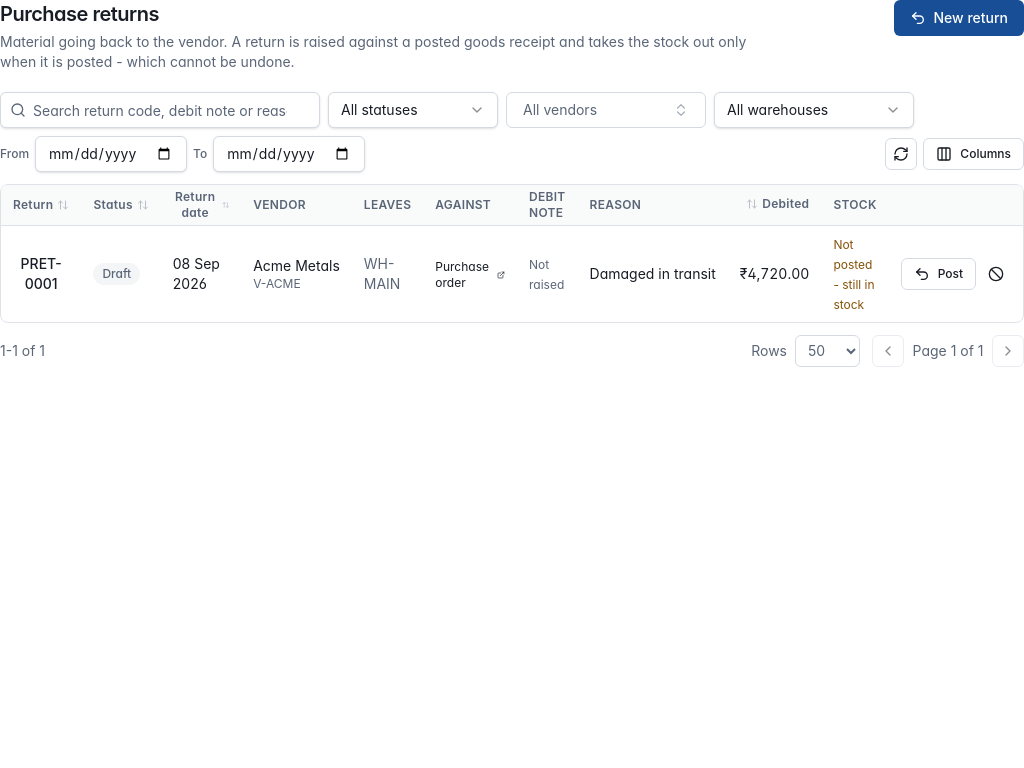
posting the return › states what posting will do before it is done
Click the button "Post" at (938, 274), box [901,258,976,290]
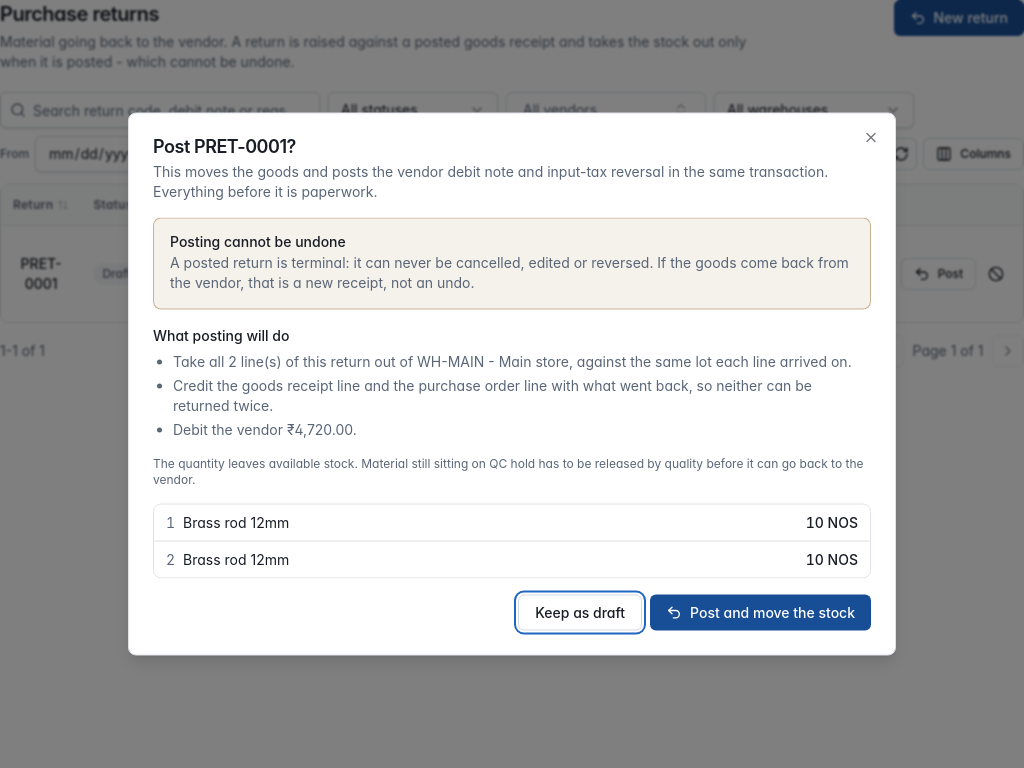
Expected: the dialog is shown, [128,112,896,656]
Expected: the heading "Posting cannot be undone" is shown, [170,232,346,250]
Expected: the text "posts the vendor debit note and input-tax reversal" is shown, [153,162,828,200]
